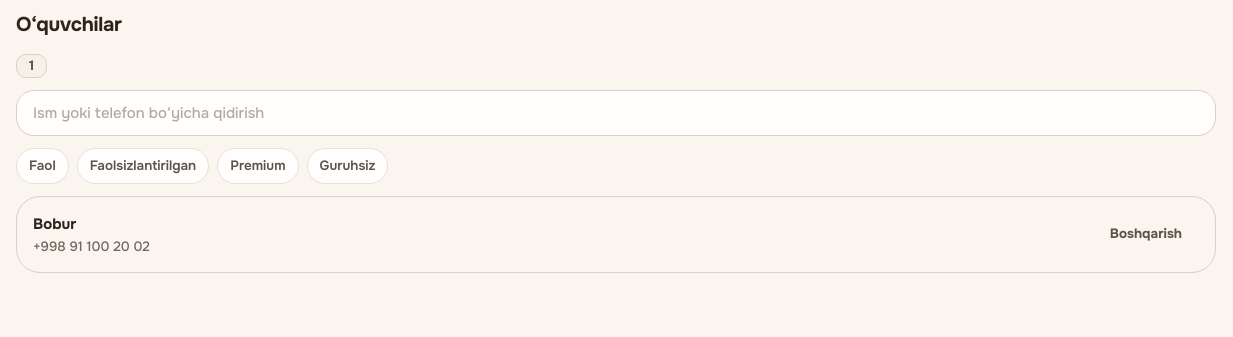
Test: filter chips › says when nothing matches and offers to clear
Click the button "Premium".
click(258, 166)  # box [217,148,299,184]
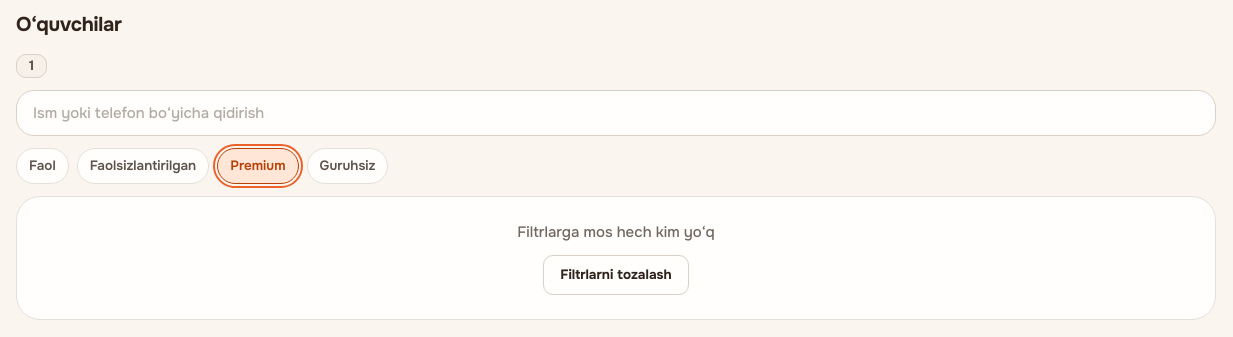
Now the text "Filtrlarga mos hech kim yo‘q" is shown, box [517,220,715,242]
Click the button "Filtrlarni tozalash".
click(616, 274)  # box [543,254,689,294]
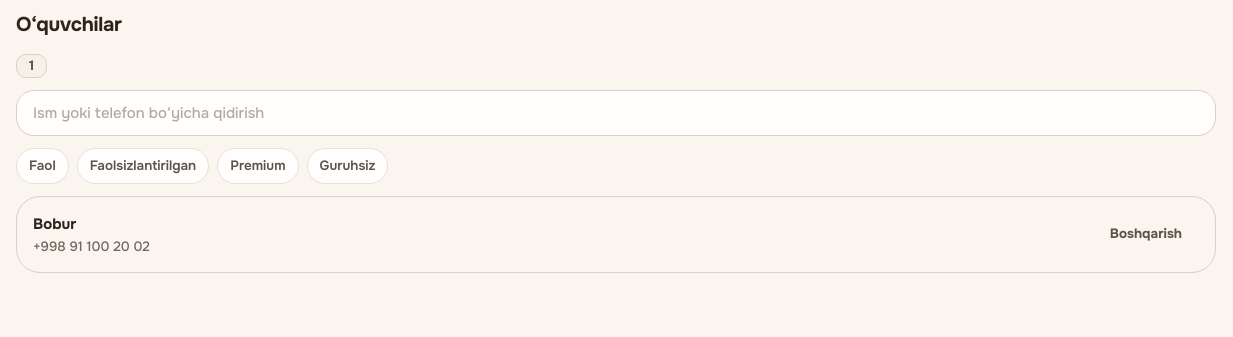
Now the text "Bobur" is shown, box [33,212,76,234]
